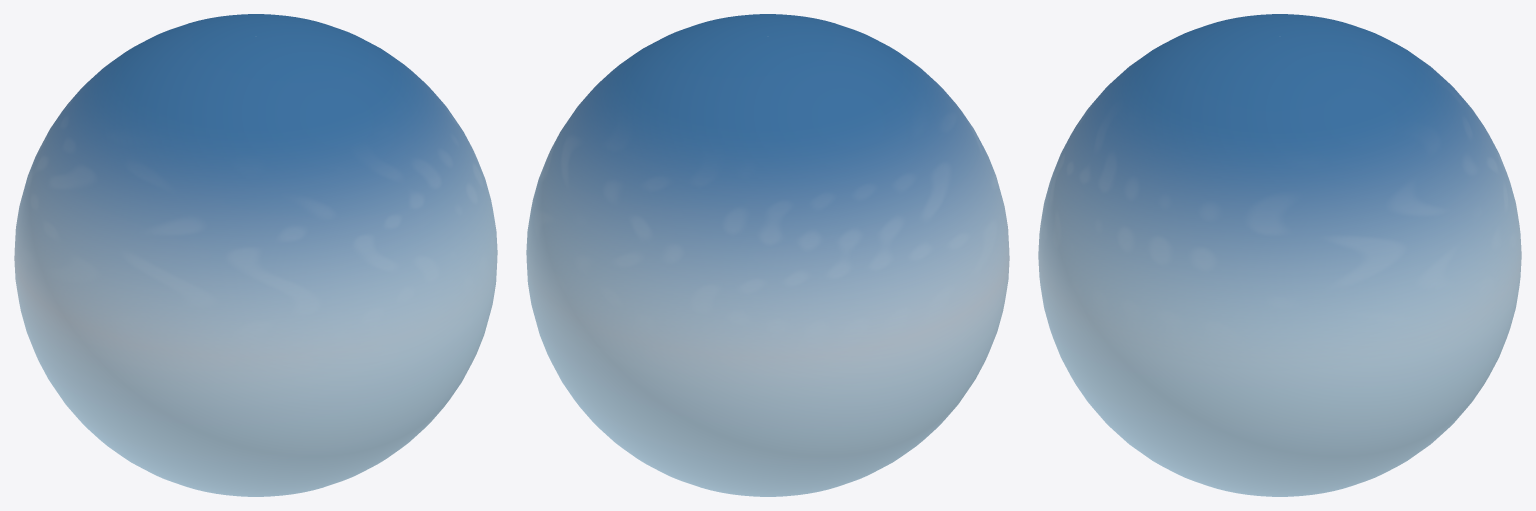
The model's file is visual-far.glb.
3 views of the same model, side by side, from view 1: azimuth 30°, elevation 25°; view 2: azimuth 150°, elevation 25°; view 3: azimuth 270°, elevation 25° (orthographic).
Parts seen in each view (by area): view 1: 昼夜渐变天空穹顶母版; view 2: 昼夜渐变天空穹顶母版; view 3: 昼夜渐变天空穹顶母版.
Part boxes in pixels (left/top/right/bottom): 昼夜渐变天空穹顶母版: left=14, top=14, right=497, bottom=496; 昼夜渐变天空穹顶母版: left=526, top=14, right=1009, bottom=496; 昼夜渐变天空穹顶母版: left=1038, top=14, right=1521, bottom=496.
Size of what is drawn, in the model's own units: 28000 by 28000 by 28000.
Materials: 28 (27 with a texture image).
